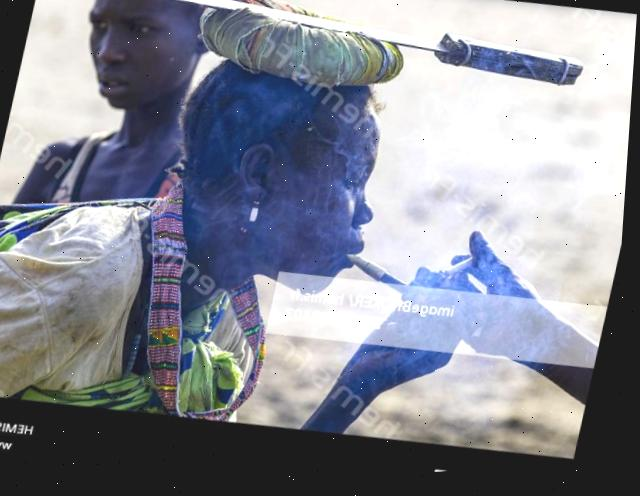long knife: (44, 0, 616, 134)
